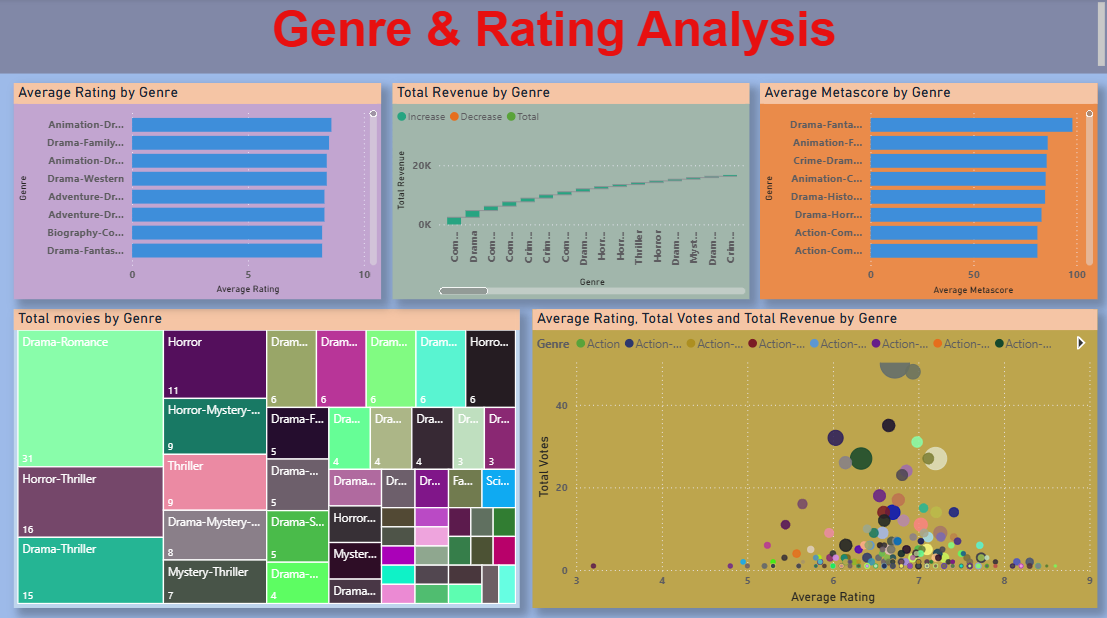

Layout of this report page (visuals, bound fields, positions):
{"tool":"powerbi","page":{"name":"Genre & Rating ","canvas":[1280,720],"ordinal":1},"visuals":[{"type":"treemap","fields":{"Group":["IMDB-Movie-Data.Genre"],"Values":["IMDB-Movie-Data.Total movies"]},"box":[15.9,359.2,584.3,344.8],"z":0},{"type":"barChart","fields":{"Category":["IMDB-Movie-Data.Genre"],"Y":["IMDB-Movie-Data.Average Rating"]},"box":[15.6,98.3,424.3,249.3],"z":1000},{"type":"waterfallChart","fields":{"Category":["IMDB-Movie-Data.Genre"],"Y":["IMDB-Movie-Data.Total Revenue"]},"box":[453,98.3,412.3,249.3],"z":2000},{"type":"barChart","fields":{"Category":["IMDB-Movie-Data.Genre"],"Y":["IMDB-Movie-Data.Average Metascore"]},"box":[877.2,98.1,389.5,249.6],"z":3000},{"type":"scatterChart","fields":{"Series":["IMDB-Movie-Data.Genre"],"Size":["IMDB-Movie-Data.Total Revenue"],"X":["IMDB-Movie-Data.Average Rating"],"Y":["IMDB-Movie-Data.Total Votes"]},"box":[614.6,359.2,652.1,344.8],"z":4000},{"type":"textbox","box":[0,0,1280.5,87.5],"z":5000}]}

Visuals, with their boxes in screenshot pixels (x1, y1, x2, y2), scaled from the page's 1280x720 canvas onto the 1107x618 screenshot:
treemap - IMDB-Movie-Data.Genre x IMDB-Movie-Data.Total movies: pyautogui.locateOnScreen(14, 308, 519, 604)
barChart - IMDB-Movie-Data.Genre x IMDB-Movie-Data.Average Rating: pyautogui.locateOnScreen(13, 84, 380, 298)
waterfallChart - IMDB-Movie-Data.Genre x IMDB-Movie-Data.Total Revenue: pyautogui.locateOnScreen(392, 84, 748, 298)
barChart - IMDB-Movie-Data.Genre x IMDB-Movie-Data.Average Metascore: pyautogui.locateOnScreen(759, 84, 1095, 298)
scatterChart - IMDB-Movie-Data.Genre x IMDB-Movie-Data.Total Revenue: pyautogui.locateOnScreen(532, 308, 1095, 604)
textbox: pyautogui.locateOnScreen(0, 0, 1106, 75)
